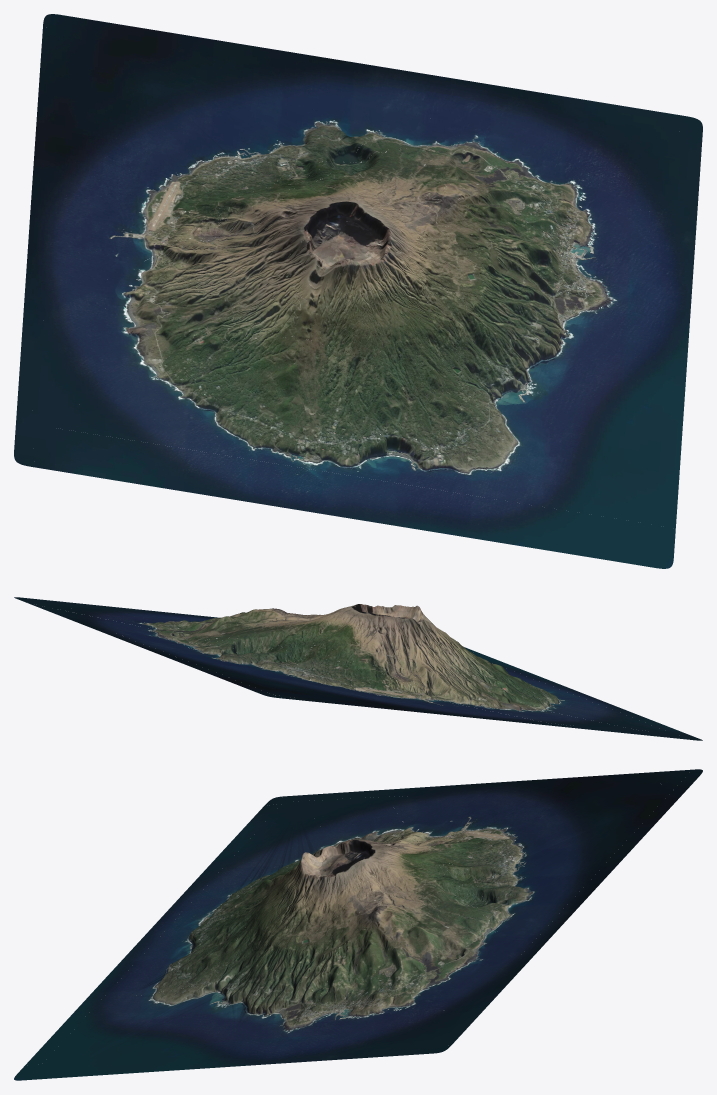
Rendered from island.glb.
The picture shows the model from 3 angles, top to bottom: view 1: azimuth 30°, elevation 25°; view 2: azimuth 150°, elevation 25°; view 3: azimuth 270°, elevation 25°; orthographic projection. The views are drawn at different scales.
Parts seen in each view (by area): view 1: Plane.001_texture2_miyake island_0.002, Plane.001_texture2_miyake island_0.003, Plane.001_texture2_miyake island_0.001, Plane.001_texture2_miyake island_0, Plane.001_texture2_miyake island_0.004; view 2: Plane.001_texture2_miyake island_0, Plane.001_texture2_miyake island_0.001, Plane.001_texture2_miyake island_0.003, Plane.001_texture2_miyake island_0.002, Plane.001_texture2_miyake island_0.004; view 3: Plane.001_texture2_miyake island_0.002, Plane.001_texture2_miyake island_0.001, Plane.001_texture2_miyake island_0, Plane.001_texture2_miyake island_0.003, Plane.001_texture2_miyake island_0.004.
Boxes of the visible parts, <box> form: Plane.001_texture2_miyake island_0.002: <box>34,203,691,561</box>; Plane.001_texture2_miyake island_0.003: <box>41,112,700,497</box>; Plane.001_texture2_miyake island_0.001: <box>14,26,637,564</box>; Plane.001_texture2_miyake island_0: <box>27,15,675,568</box>; Plane.001_texture2_miyake island_0.004: <box>14,14,702,553</box>; Plane.001_texture2_miyake island_0: <box>28,603,681,737</box>; Plane.001_texture2_miyake island_0.001: <box>116,633,693,740</box>; Plane.001_texture2_miyake island_0.003: <box>14,597,649,731</box>; Plane.001_texture2_miyake island_0.002: <box>189,604,697,738</box>; Plane.001_texture2_miyake island_0.004: <box>15,597,702,740</box>; Plane.001_texture2_miyake island_0.002: <box>32,805,379,1078</box>; Plane.001_texture2_miyake island_0.001: <box>25,769,692,1065</box>; Plane.001_texture2_miyake island_0: <box>14,771,698,1080</box>; Plane.001_texture2_miyake island_0.003: <box>127,796,501,1064</box>; Plane.001_texture2_miyake island_0.004: <box>264,769,702,1055</box>.
Size of the model in its own units: 218 by 75.99 by 204.
Materials: 1 (1 with a texture image).
